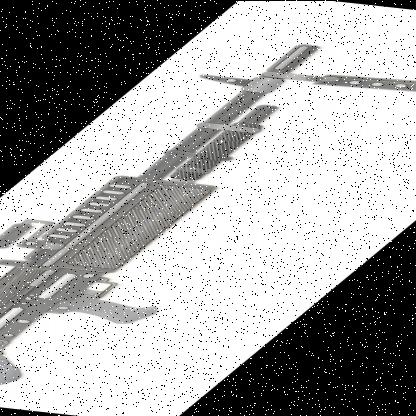rifle: (0, 29, 416, 402)
